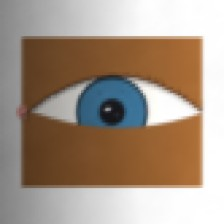hemorrhage_spot: (90, 88, 150, 136)
